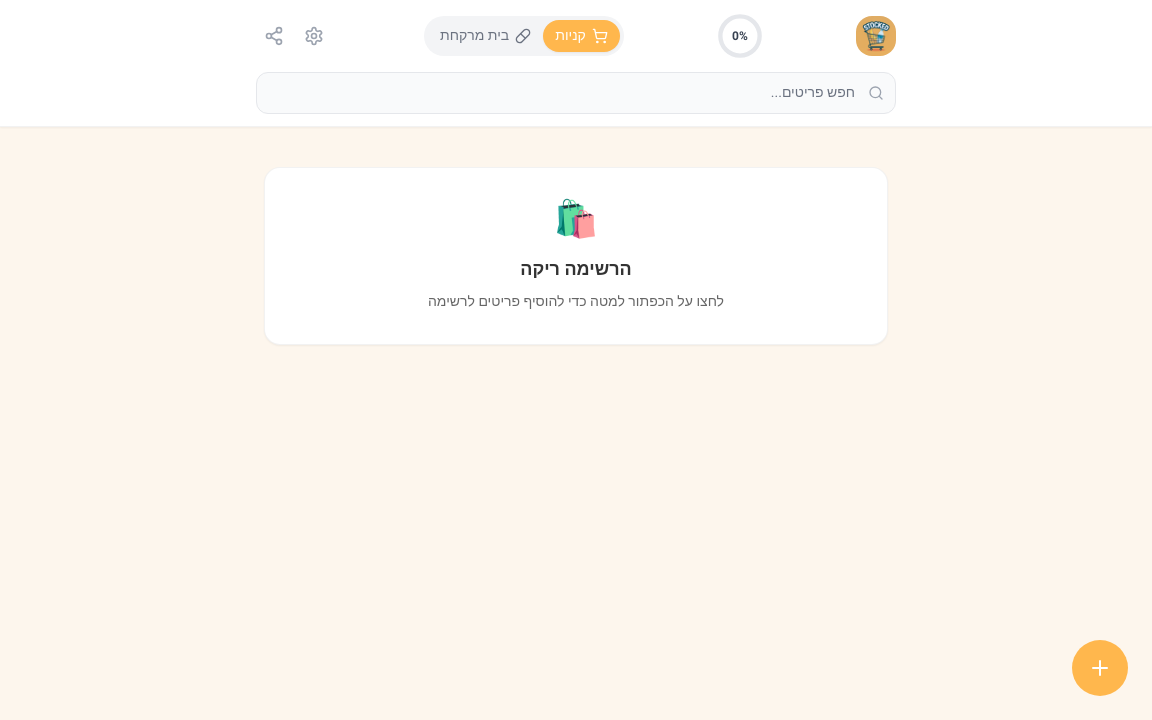
Test: Add item flow (the most basic, must-work journey) › adds a new item via the add form and shows it in the list
Expected: the field with placeholder "חפש פריטים..." is shown, left=256, top=72, right=896, bottom=114
Click the 5th button: (1100, 668) left=1072, top=640, right=1128, bottom=696
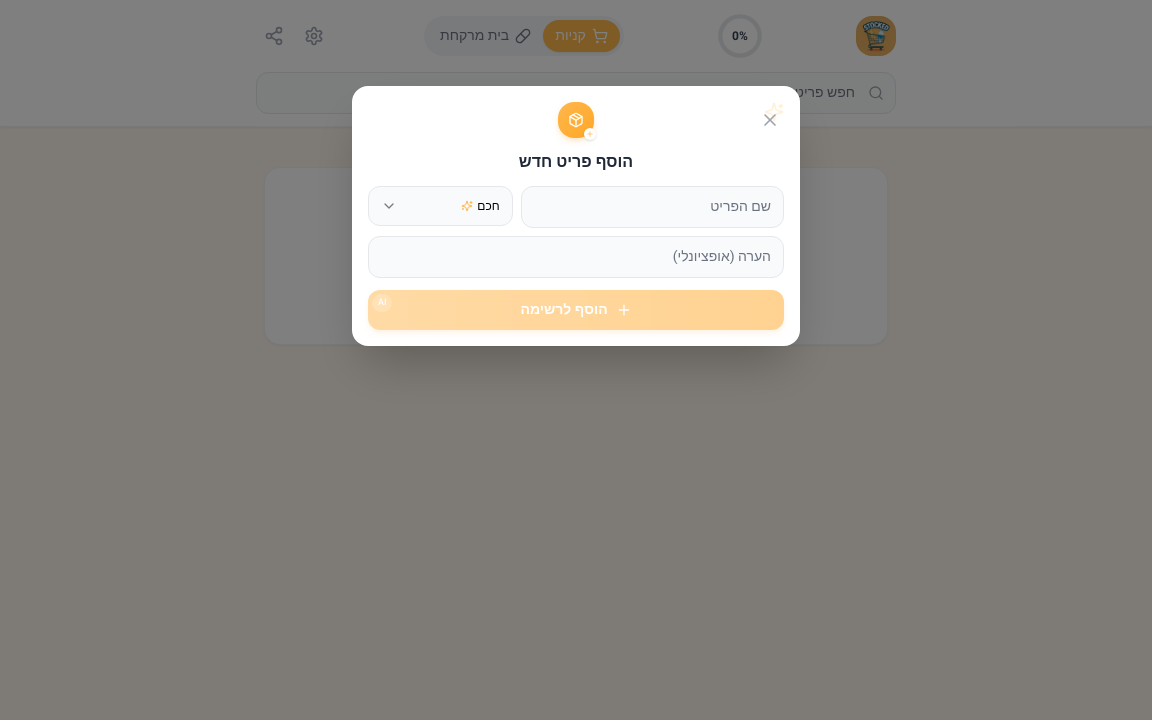
Note: Type a name and submit.
In the field with placeholder "שם הפריט": (652, 207) left=521, top=186, right=784, bottom=228, type "במבה"
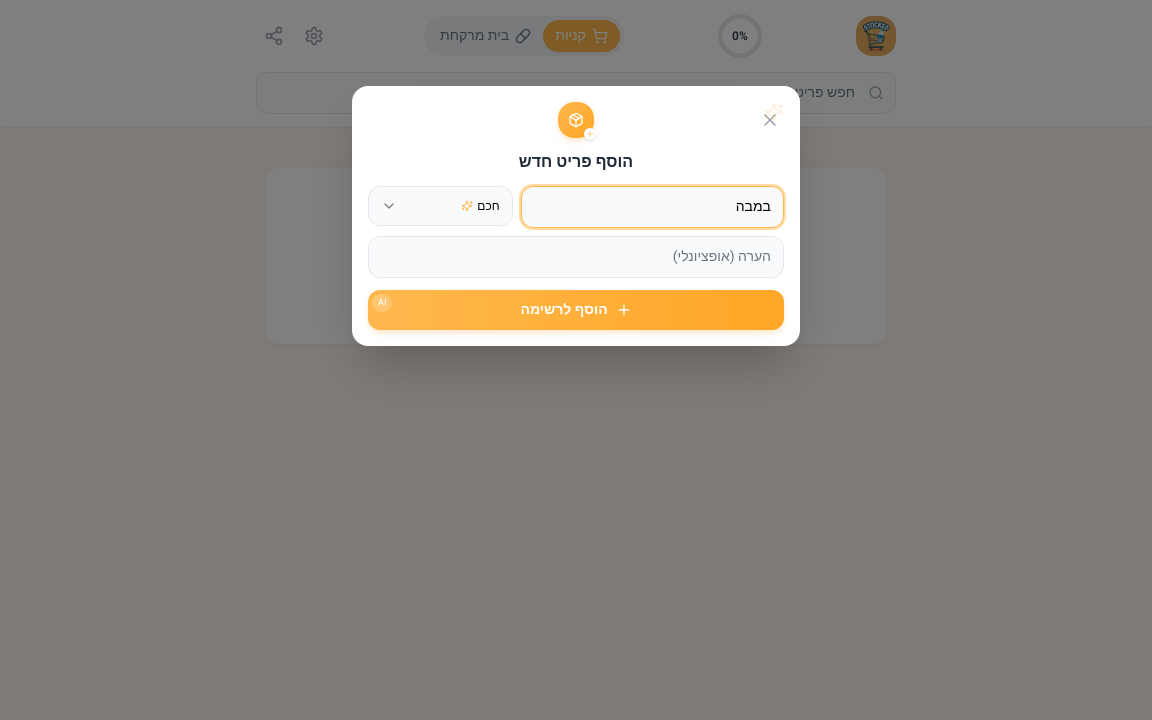
Click the button "הוסף לרשימה AI": (576, 310) left=368, top=290, right=784, bottom=330
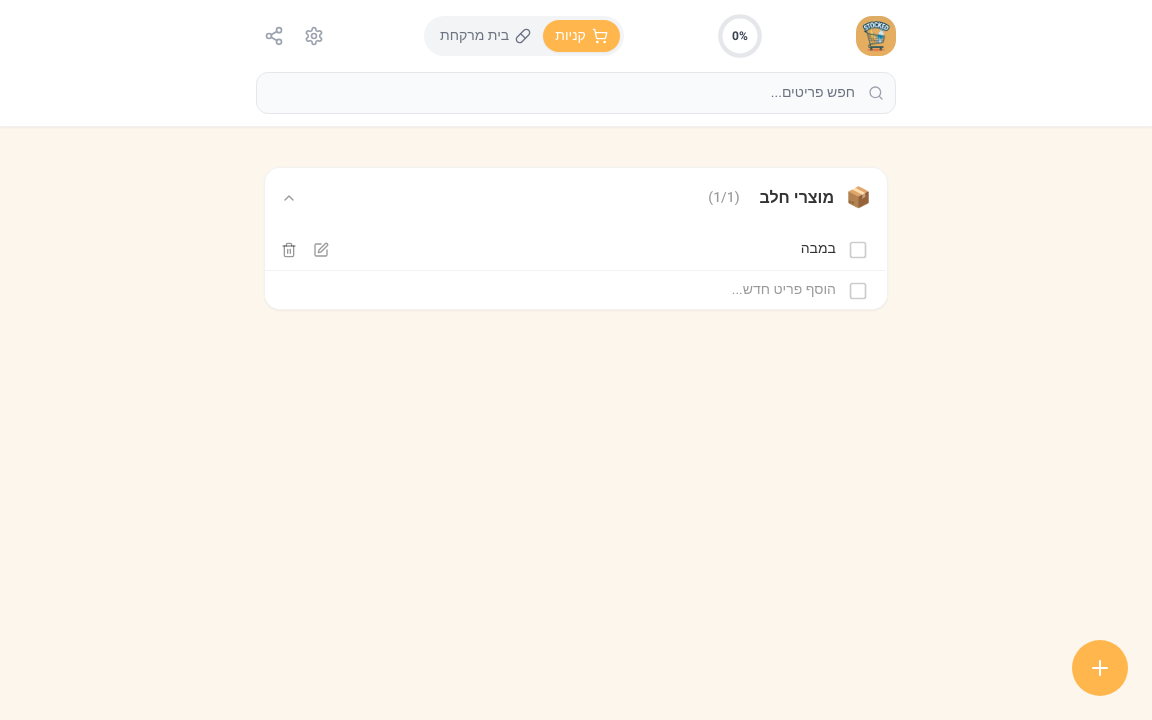
Expected: the text "במבה" is shown, left=801, top=239, right=836, bottom=259
